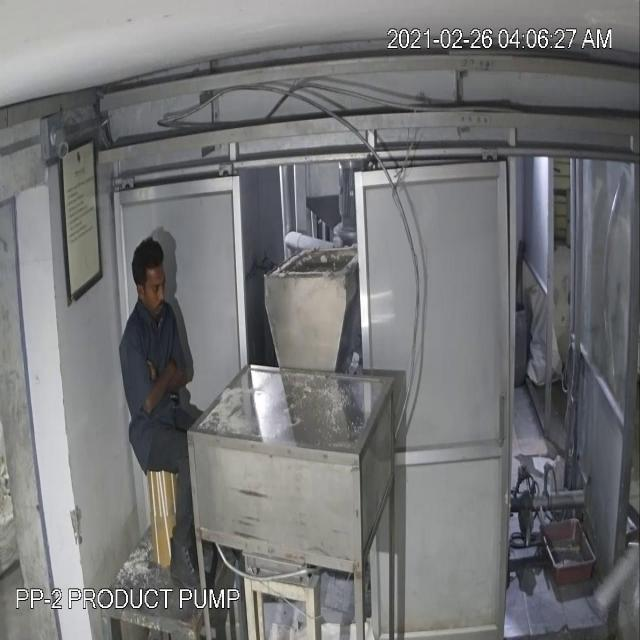no hat: (132, 236, 168, 294)
